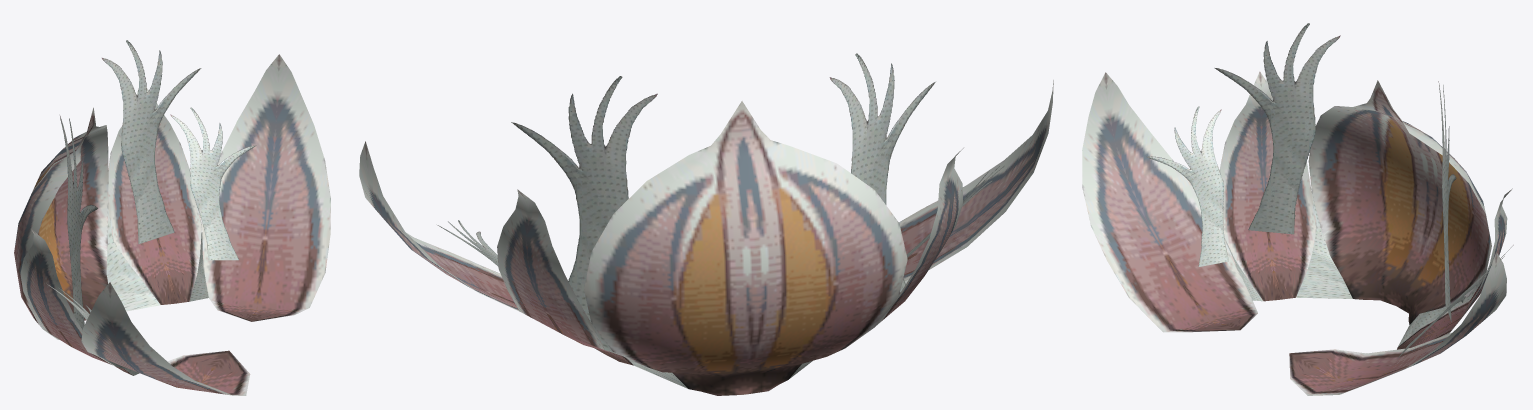
Rendered from flamingo04_lvs.obj.
3 renders of one model, left to right at view 1: azimuth 30°, elevation 25°; view 2: azimuth 150°, elevation 25°; view 3: azimuth 270°, elevation 25°, orthographic. The views are drawn at different scales.
Visible parts, largest first — view 1: flamingo04_lvs; view 2: flamingo04_lvs; view 3: flamingo04_lvs.
Boxes of the visible parts, <box> form: flamingo04_lvs: <box>14,40,330,395</box>; flamingo04_lvs: <box>359,53,1053,395</box>; flamingo04_lvs: <box>1082,23,1513,395</box>.
Size of the model in its own units: 20.93 by 13 by 19.85.
Materials: 2 (2 with a texture image).
